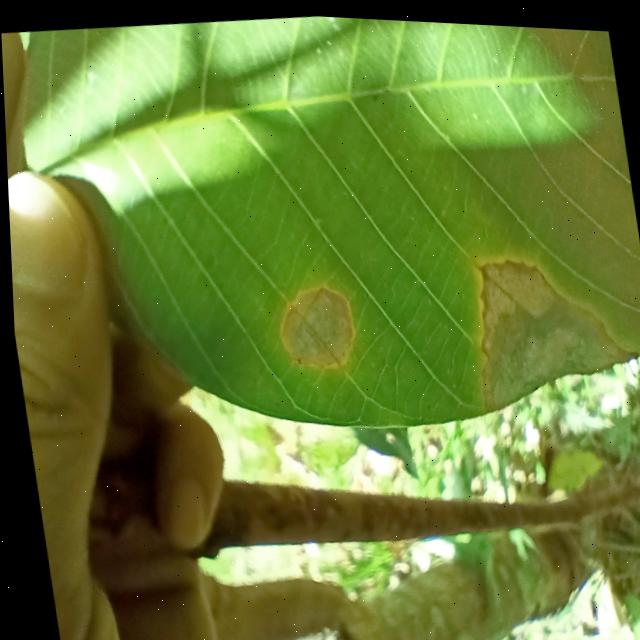Leaf-Blight: (459, 237, 640, 415), (269, 278, 356, 370)
